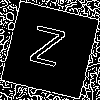Z: (25, 25, 67, 77)
